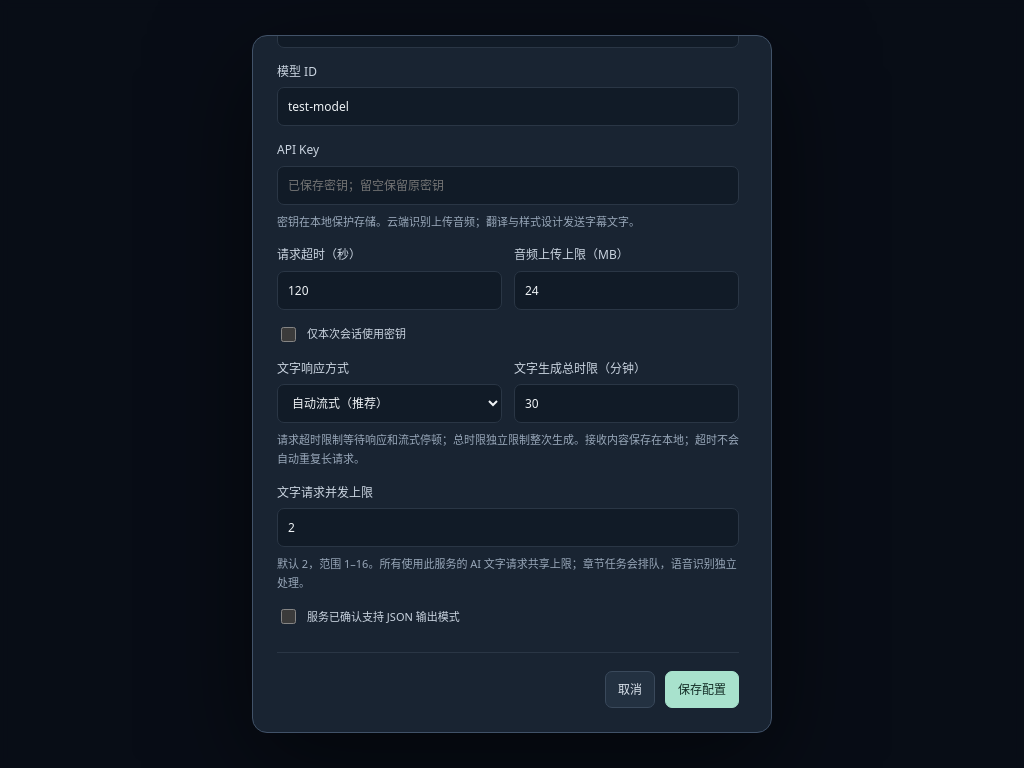
ProfileEditor configuration and credential behavior › rejects invalid service concurrency 1.5 before save
(page scrolled)
Replace the text in the number field labelled "文字请求并发上限" with "1.5" at (508, 527), box x1=277 y1=508 x2=739 y2=547
(page scrolled)
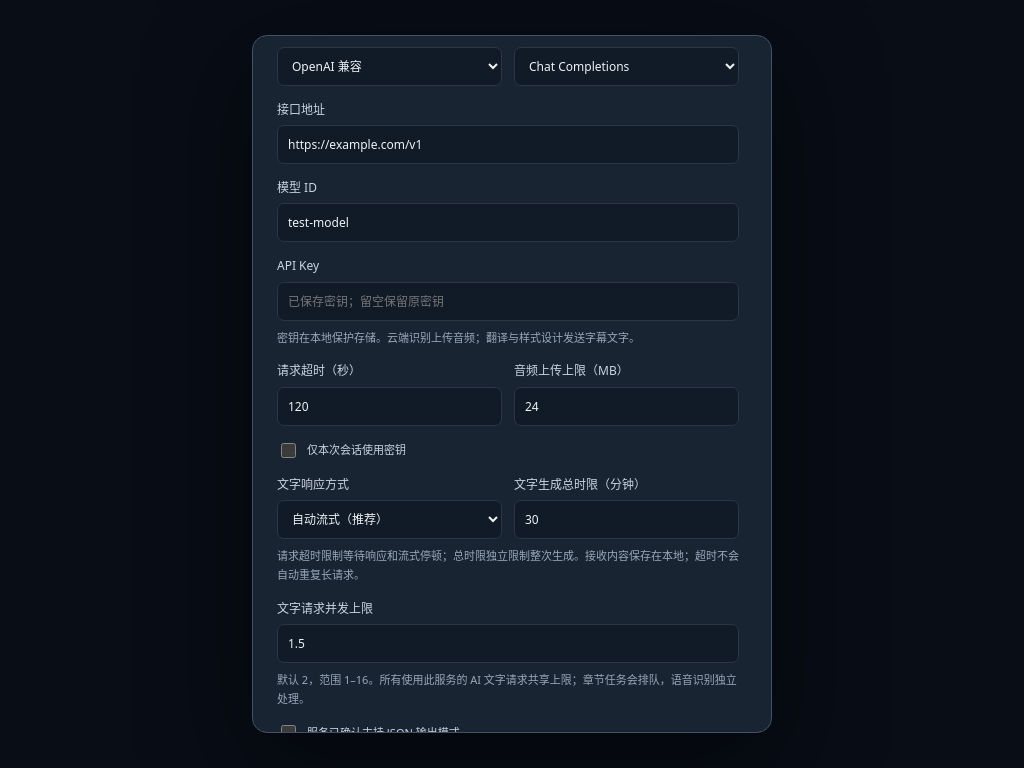
Submit the form named "保存配置"
(page scrolled)
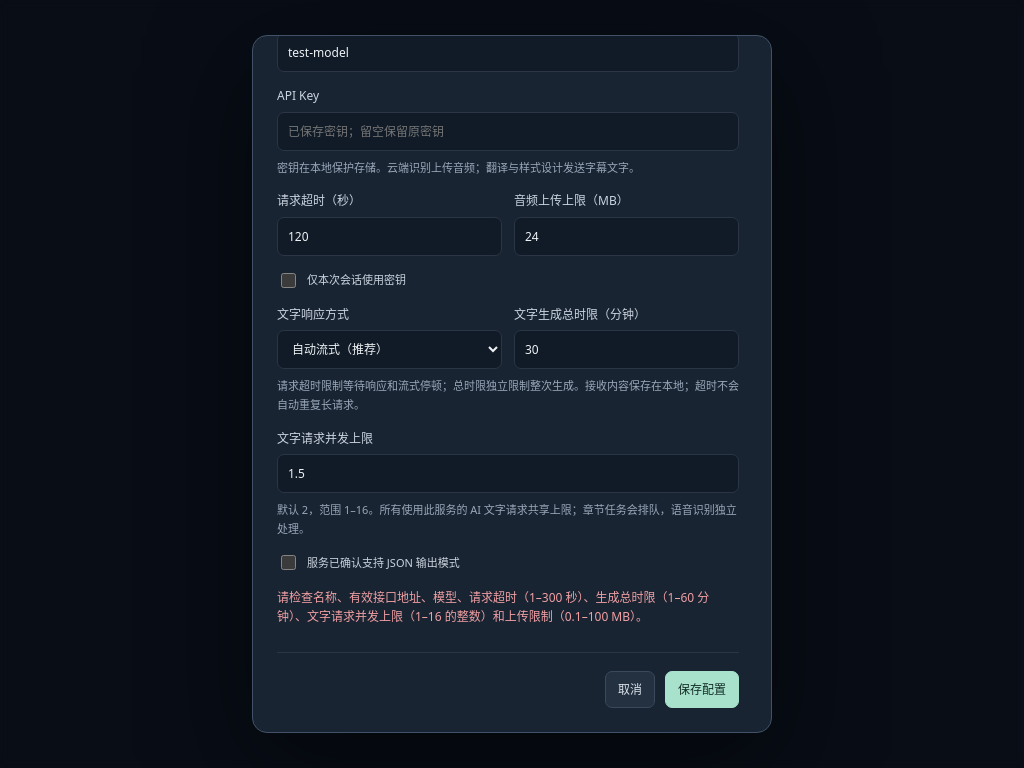
Expected: the message shows "文字请求并发上限", x1=277 y1=589 x2=709 y2=626
